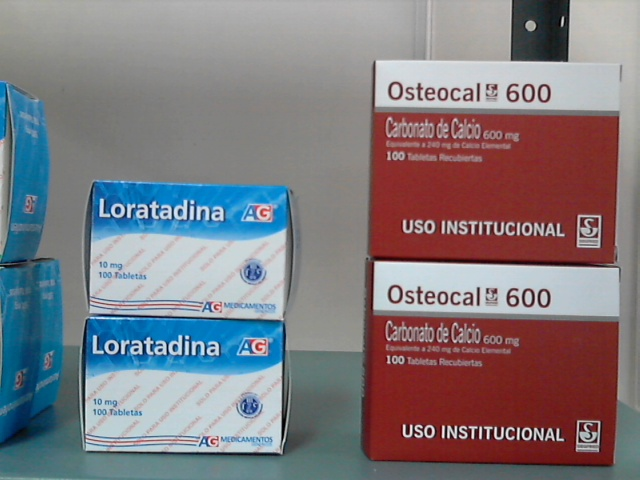AG: (86, 319, 282, 455), (92, 182, 284, 319)
